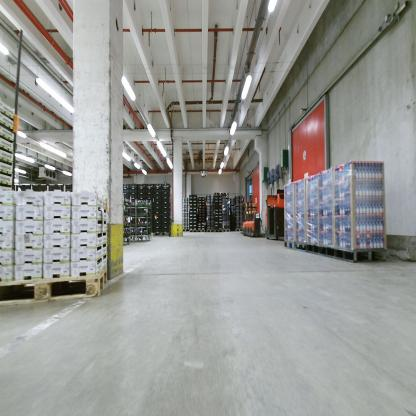pallet: (1, 265, 111, 306), (157, 231, 169, 237), (223, 227, 231, 234), (149, 230, 157, 237), (182, 227, 189, 234), (234, 228, 243, 233), (206, 229, 215, 234), (197, 229, 206, 234), (215, 229, 223, 234), (189, 229, 197, 234)
pallet_truck: (265, 186, 288, 247), (250, 194, 264, 239), (241, 200, 247, 238), (247, 200, 250, 240)
